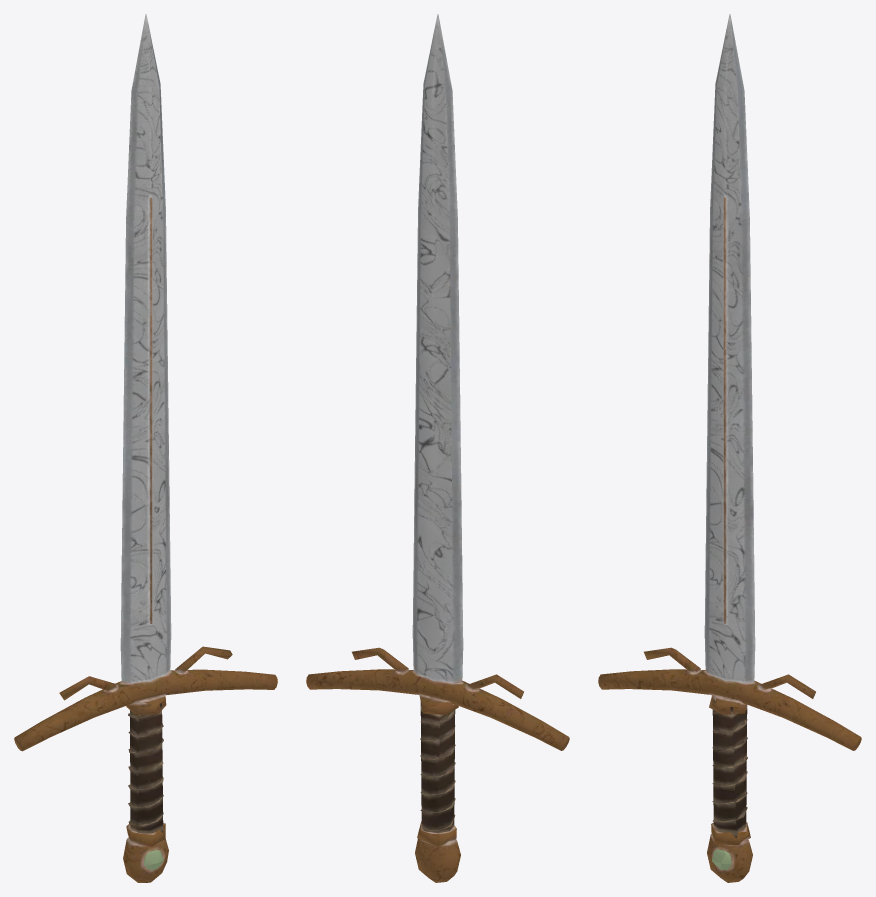
Rendered from eq_sword_5_lod1.glb.
3 views of the same model, side by side, from view 1: azimuth 30°, elevation 25°; view 2: azimuth 150°, elevation 25°; view 3: azimuth 330°, elevation 25° (orthographic).
Visible parts, largest first — view 1: eq_sword_5_lod1; view 2: eq_sword_5_lod1; view 3: eq_sword_5_lod1.
Boxes of the visible parts, bbox=[...] form: eq_sword_5_lod1: bbox=[14, 14, 277, 882]; eq_sword_5_lod1: bbox=[306, 14, 569, 882]; eq_sword_5_lod1: bbox=[598, 14, 861, 882].
Size of the model in its own units: 0.4469 by 1.43 by 0.0617.
1 material, 1 textured.
